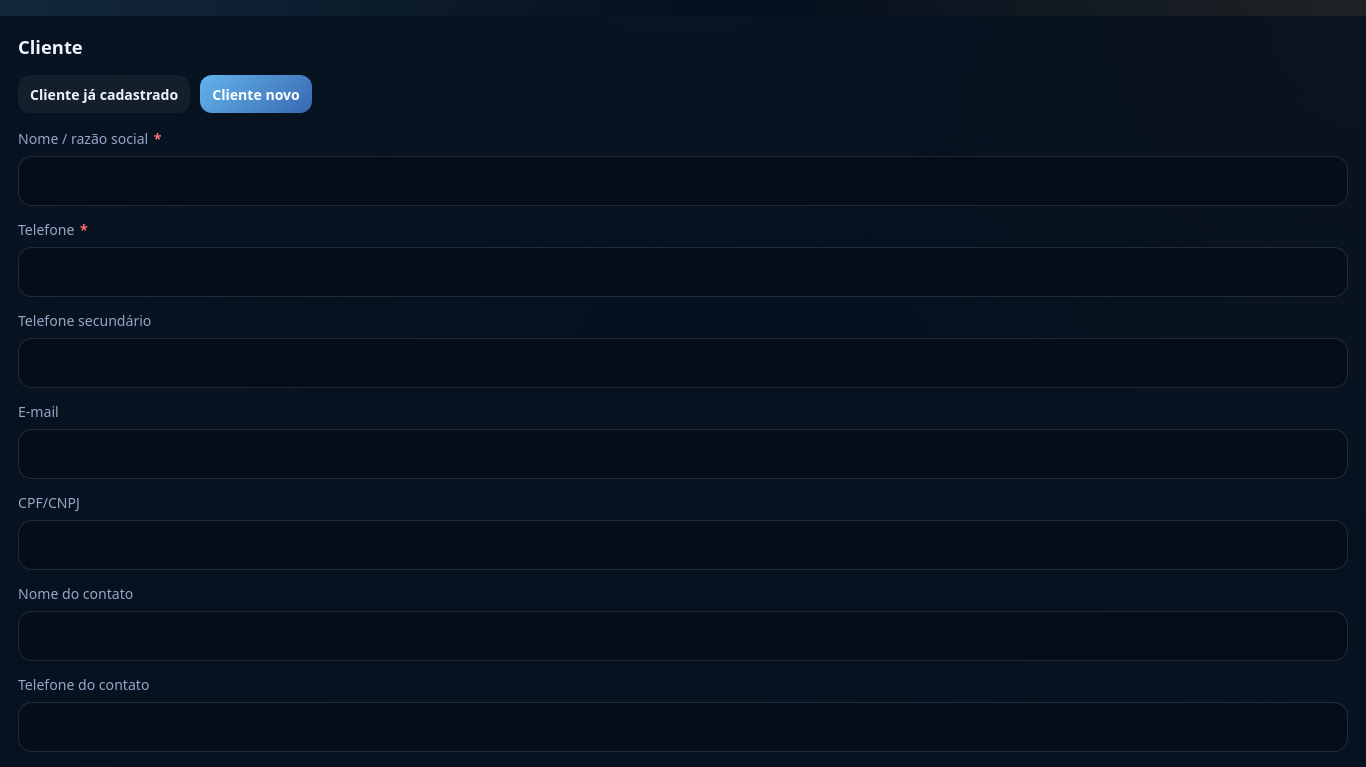
Test: StepClient › aplica as máscaras de celular e telefone fixo durante a digitação
Type "22999999999" into the field labelled "Telefone *" at (683,272), box [18,247,1348,297]
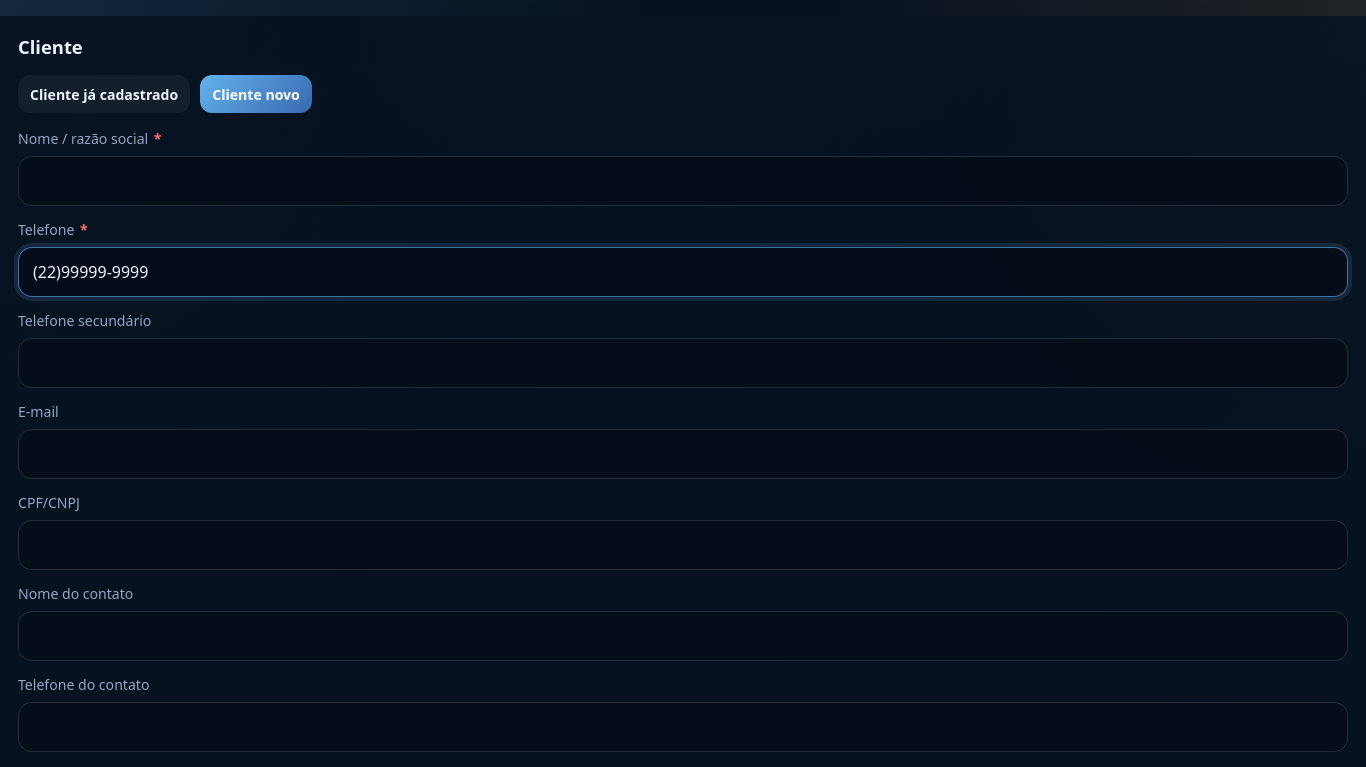
Type "2226212621" into the field labelled "Telefone secundário" at (683,363), box [18,338,1348,388]
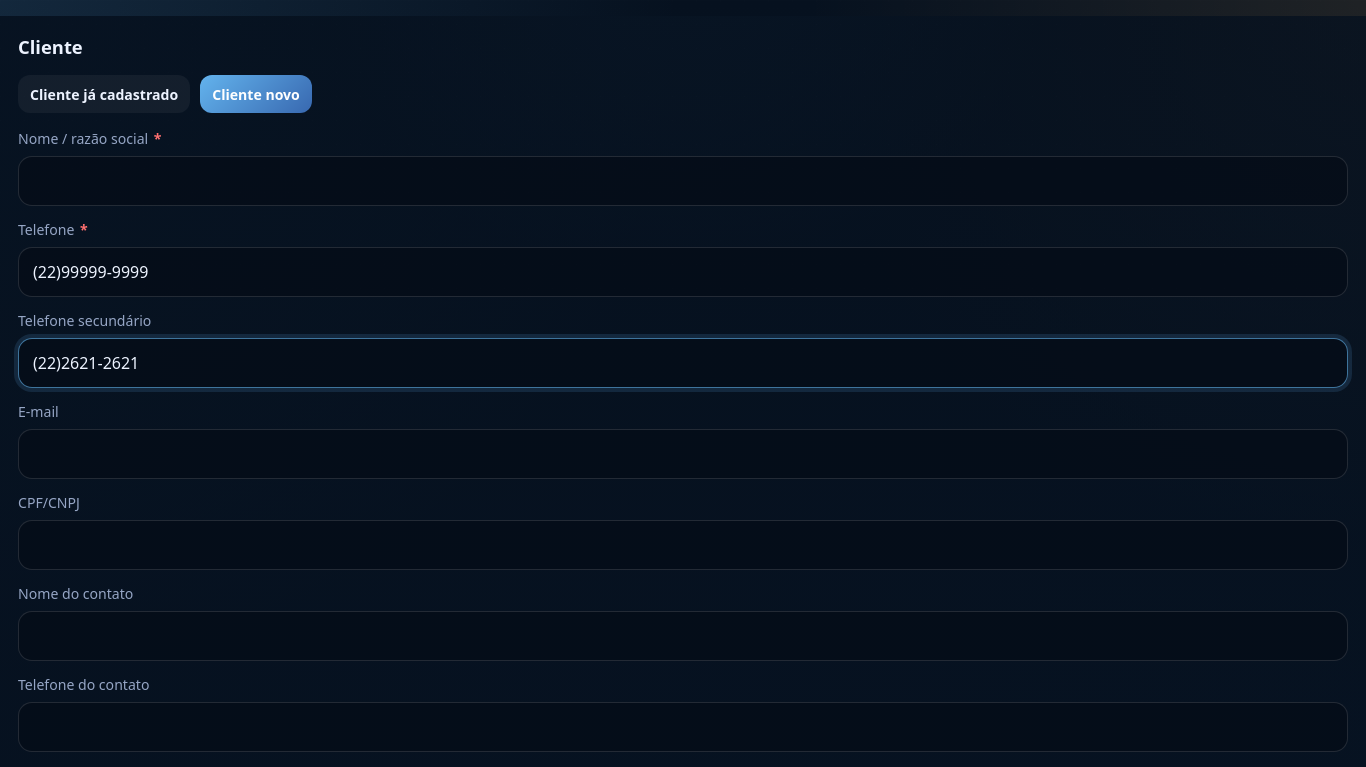
Expected: the field labelled "Telefone *" holds "(22)99999-9999", [18,247,1348,297]
Expected: the field labelled "Telefone secundário" holds "(22)2621-2621", [18,338,1348,388]
